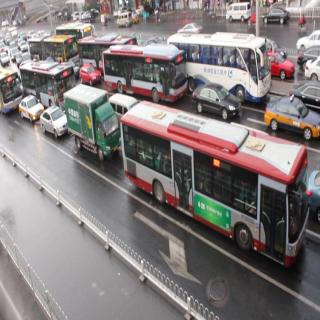BigCar: (122, 92, 309, 258), (168, 30, 270, 101), (102, 47, 185, 99), (70, 87, 118, 163), (20, 58, 78, 107)
Car: (267, 89, 317, 138), (191, 76, 240, 123), (40, 104, 66, 148), (17, 89, 38, 128)
